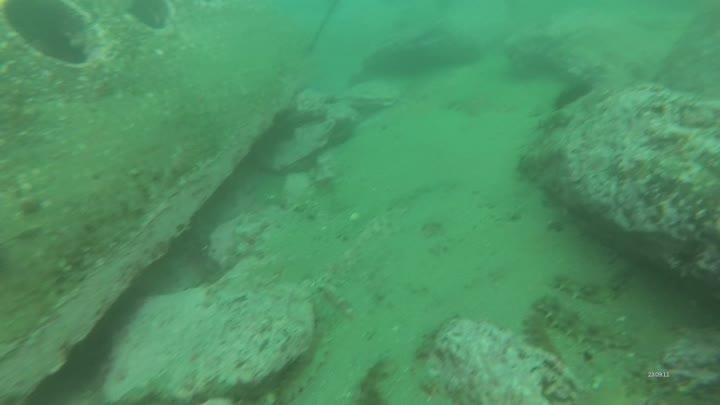echinus: (549, 79, 594, 114)
holothurian: (532, 291, 634, 354), (273, 304, 336, 405), (548, 269, 623, 306)
